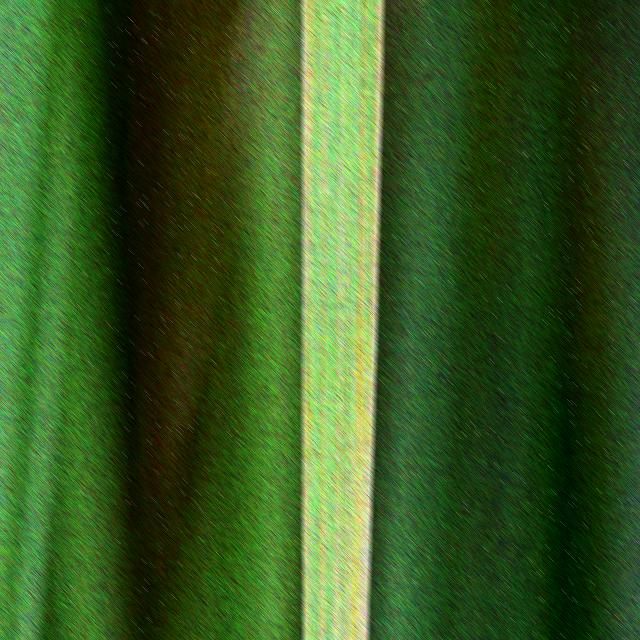BLS: (349, 0, 383, 640), (302, 0, 312, 640), (318, 0, 327, 640), (333, 82, 342, 640), (343, 369, 348, 640), (316, 0, 318, 37)
